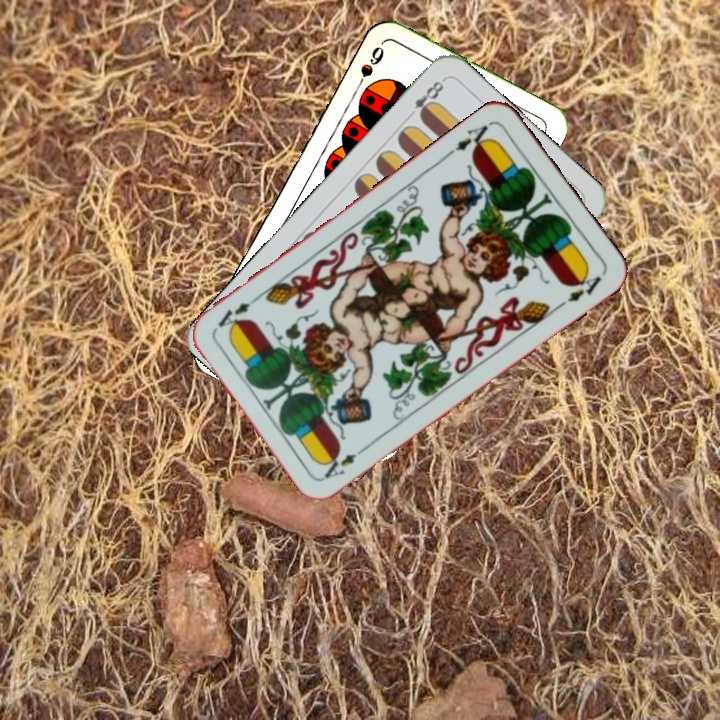E8: (402, 75, 448, 122)
EA: (320, 442, 371, 482), (442, 121, 495, 159)
S9: (350, 42, 387, 95)
